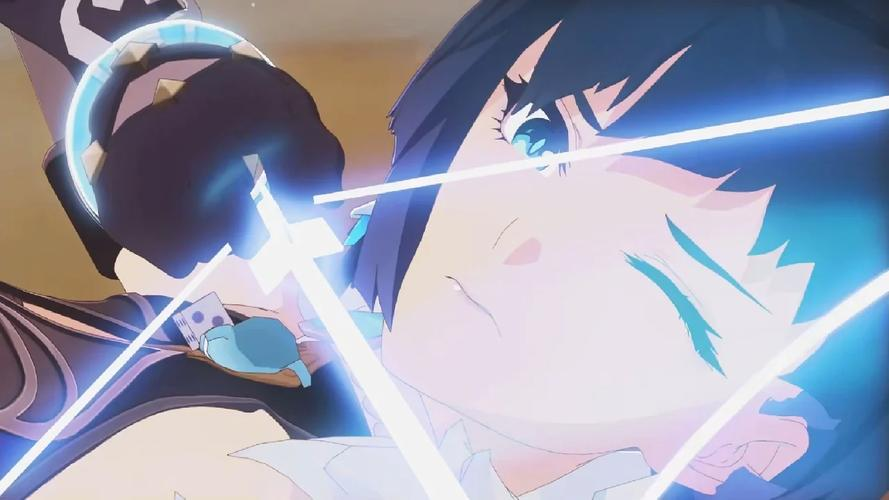夜兰: (1, 1, 889, 500)
